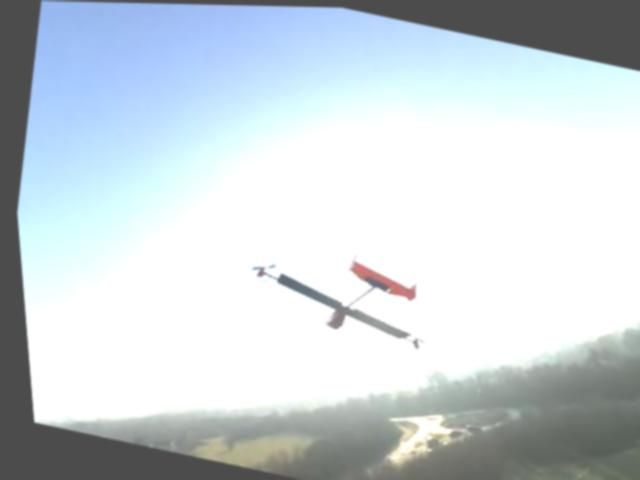uav: (217, 223, 439, 360)
